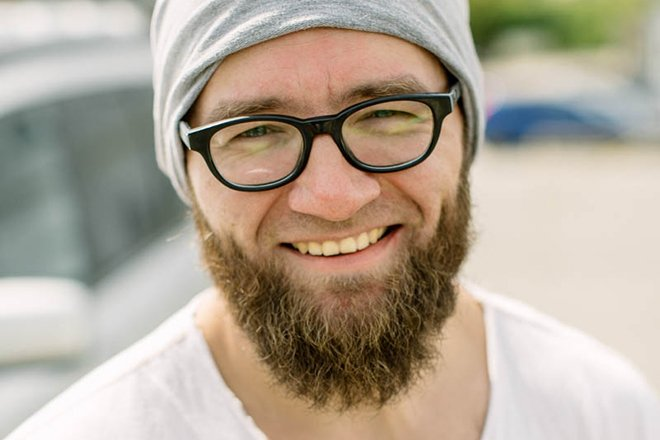beard: (188, 200, 479, 410)
glasses: (174, 87, 465, 191)
